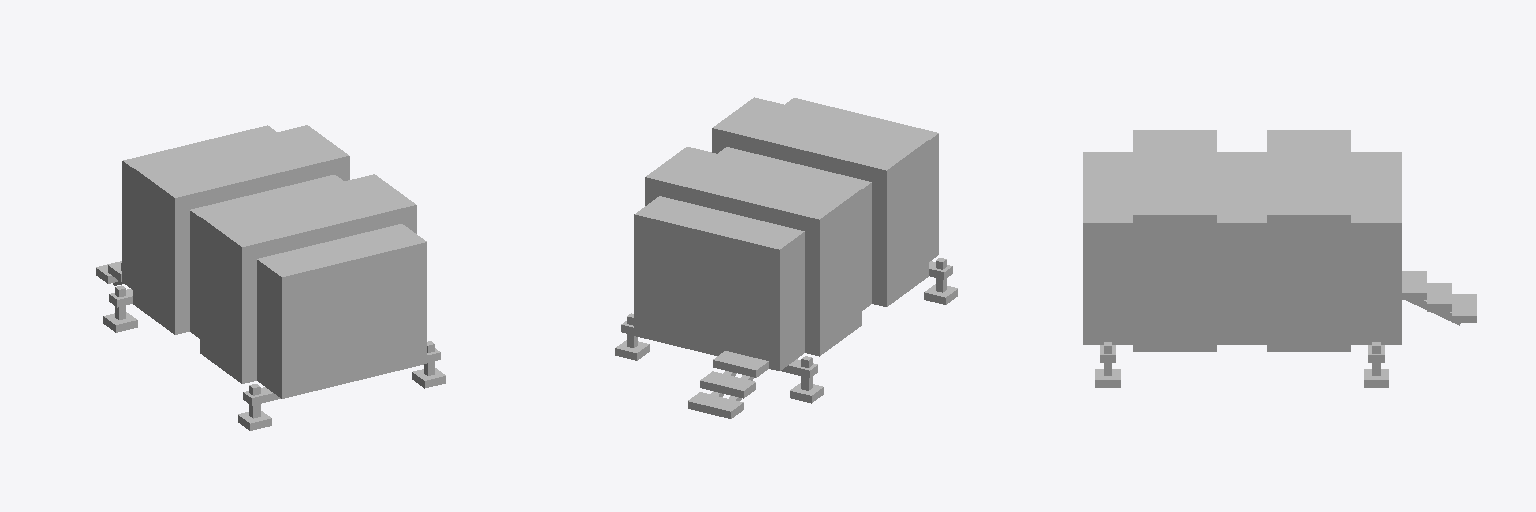
The model's file is mars_camp.obj.
3 renders of one model, left to right at view 1: azimuth 30°, elevation 25°; view 2: azimuth 150°, elevation 25°; view 3: azimuth 270°, elevation 25°, orthographic.
Parts seen in each view (by area): view 1: camp, foot, bar, leg; view 2: camp, step, foot, bar, leg; view 3: camp, step, foot.
Part boxes in pixels (left/top/right/bottom): camp: left=122, top=125, right=426, bottom=398; foot: left=103, top=312, right=445, bottom=430; bar: left=109, top=289, right=440, bottom=405; leg: left=115, top=285, right=434, bottom=418; camp: left=634, top=97, right=938, bottom=370; step: left=688, top=351, right=768, bottom=418; foot: left=615, top=284, right=957, bottom=403; bar: left=621, top=261, right=952, bottom=377; leg: left=627, top=258, right=946, bottom=390; camp: left=1083, top=130, right=1401, bottom=351; step: left=1402, top=271, right=1476, bottom=322; foot: left=1095, top=369, right=1388, bottom=387.
Bounding box in the file's own units: 1.69 × 1.38 × 2.94.